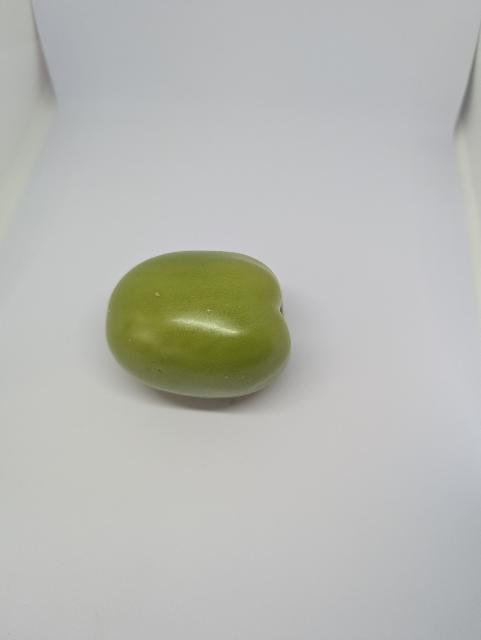green: (103, 249, 295, 401)
